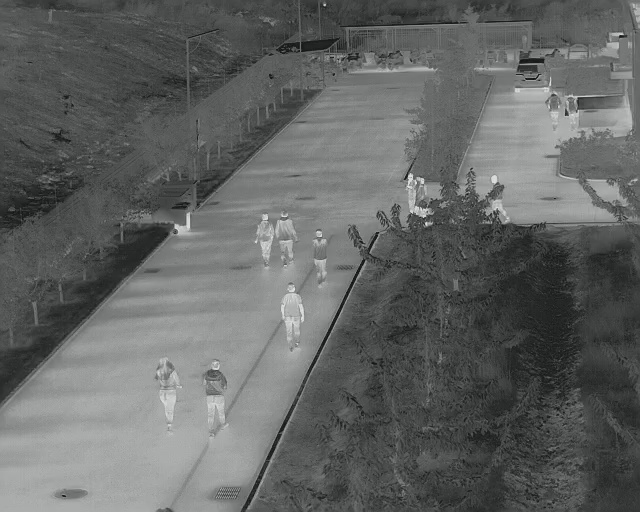person: (201, 358, 231, 437), (154, 355, 182, 432), (280, 282, 303, 349), (277, 209, 298, 266), (254, 211, 274, 268), (311, 229, 327, 286), (544, 91, 560, 129), (563, 92, 579, 129), (405, 173, 418, 212)
vehicle: (511, 56, 550, 92)
